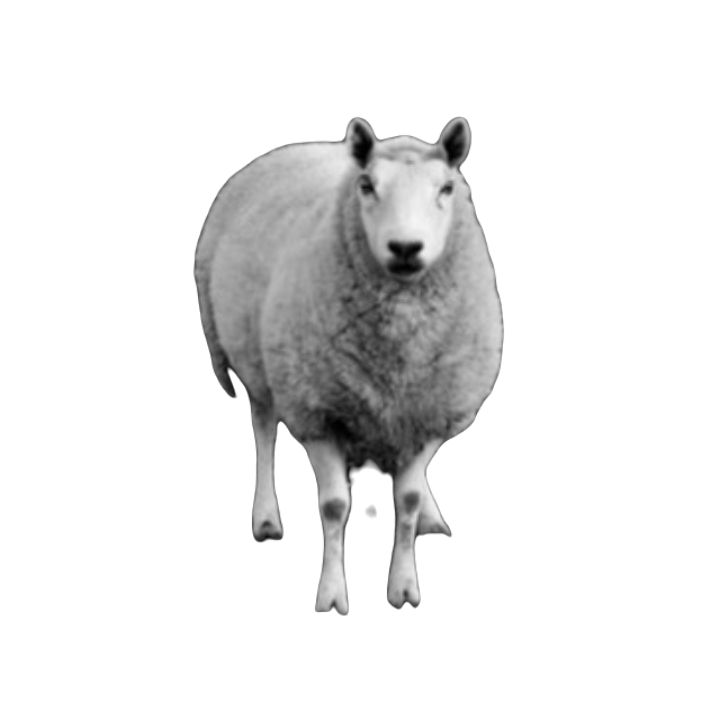Sheep: (180, 108, 523, 622)
